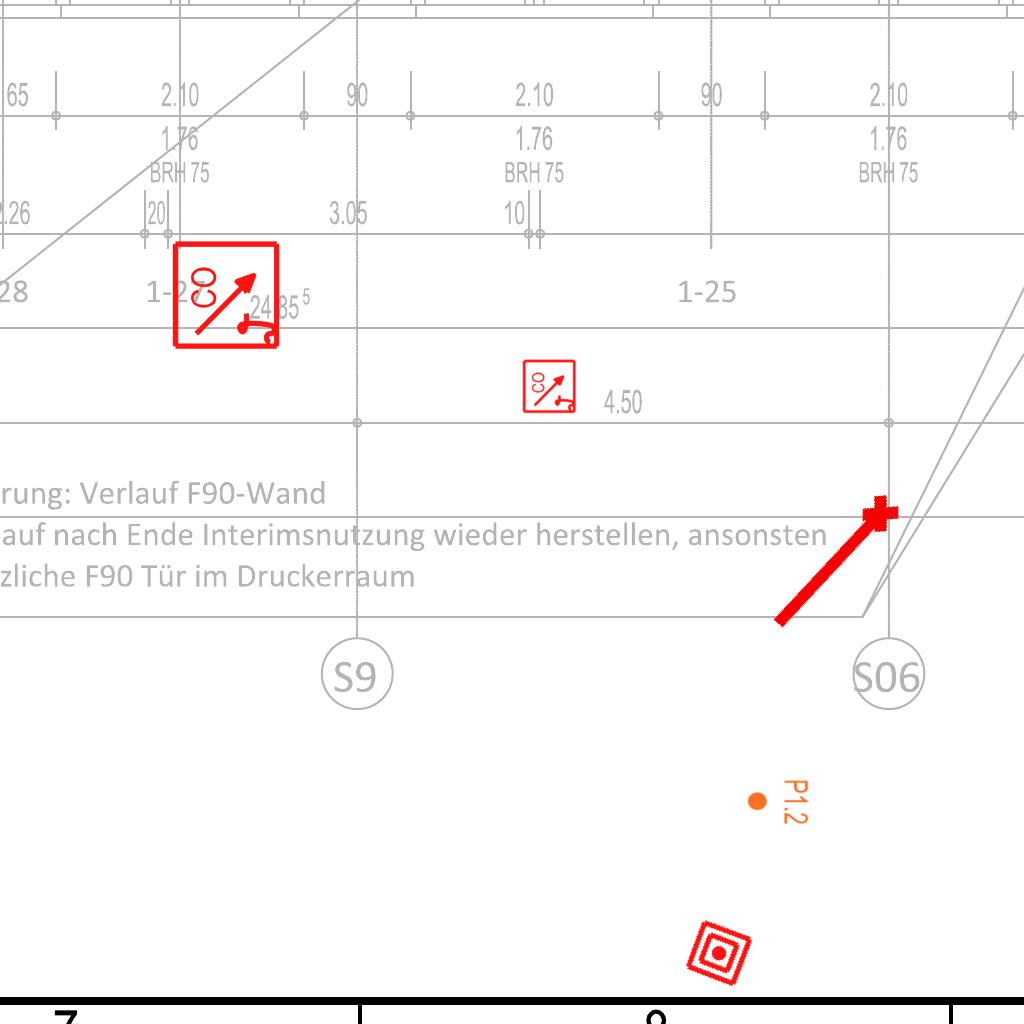ASR_Ansaugoeffnung: (759, 484, 913, 646)
Downlight_LED_Einbauleuchten_Flur: (746, 779, 810, 825)
NAM-Nichtautomatischer_Melder: (682, 916, 756, 990)
ROA_Rauchmelder_optisch_mit_Signalgeber_(Sockelsirene): (171, 238, 284, 351), (522, 358, 578, 414)
